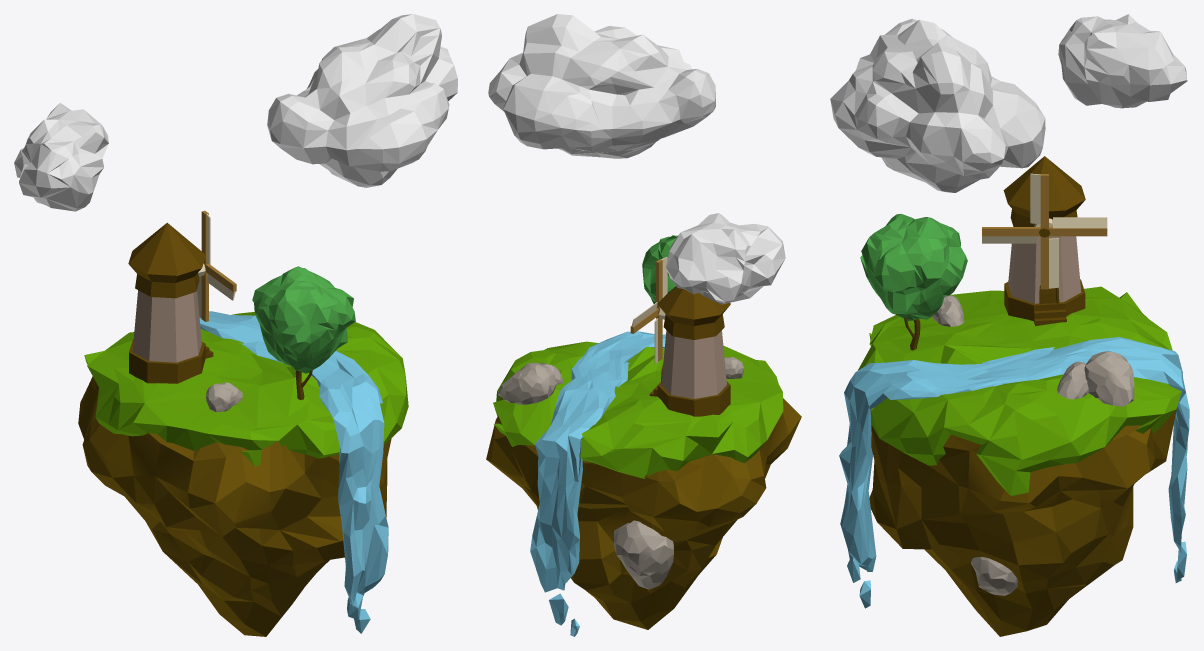
The model's file is Tiny3D.fbx.
3 renders of one model, left to right at view 1: azimuth 30°, elevation 25°; view 2: azimuth 150°, elevation 25°; view 3: azimuth 270°, elevation 25°, orthographic. The views are drawn at different scales.
Parts seen in each view (by area): view 1: Ground, Grass, Cloud, Water, Tree, Cloud1, WindmillBuilding, WindmillBuilding1, WindmillBuilding2, Windmill, Rock2, Windmill7; view 2: Cloud, Ground, Grass, Water, Cloud1, WindmillBuilding, Rock1, WindmillBuilding1, Rock4, WindmillBuilding2, Tree, Windmill (+1 smaller); view 3: Ground, Grass, Cloud, Water, Cloud1, Tree, WindmillBuilding, WindmillBuilding1, Rock4, Windmill7, Windmill, WindmillBuilding2 (+3 smaller).
Boxes of the visible parts, x1,y1,x2,y2 form: Ground: [78, 376, 391, 636]; Grass: [84, 312, 408, 466]; Cloud: [267, 14, 457, 187]; Water: [199, 311, 388, 633]; Tree: [252, 266, 355, 373]; Cloud1: [14, 103, 108, 211]; WindmillBuilding: [132, 290, 201, 362]; WindmillBuilding1: [128, 222, 205, 298]; WindmillBuilding2: [129, 339, 205, 383]; Windmill: [201, 210, 236, 321]; Rock2: [206, 382, 242, 411]; Windmill7: [197, 214, 235, 318]; Cloud: [488, 14, 715, 158]; Ground: [486, 398, 801, 629]; Grass: [493, 341, 783, 478]; Water: [530, 331, 665, 636]; Cloud1: [666, 213, 785, 304]; WindmillBuilding: [661, 330, 726, 398]; Rock1: [614, 520, 673, 589]; WindmillBuilding1: [657, 286, 730, 339]; Rock4: [497, 362, 556, 404]; WindmillBuilding2: [657, 381, 730, 416]; Tree: [642, 235, 677, 303]; Windmill: [630, 259, 662, 361]; Ground: [869, 408, 1176, 636]; Grass: [858, 286, 1181, 495]; Cloud: [830, 18, 1045, 192]; Water: [839, 337, 1189, 608]; Cloud1: [1058, 14, 1187, 108]; Tree: [860, 214, 967, 321]; WindmillBuilding: [1008, 236, 1081, 303]; WindmillBuilding1: [1003, 156, 1085, 226]; Rock4: [1084, 351, 1134, 406]; Windmill7: [982, 173, 1107, 288]; Windmill: [982, 174, 1107, 289]; WindmillBuilding2: [1004, 279, 1085, 321].
Size of the model in its own units: 178 by 284 by 142.
